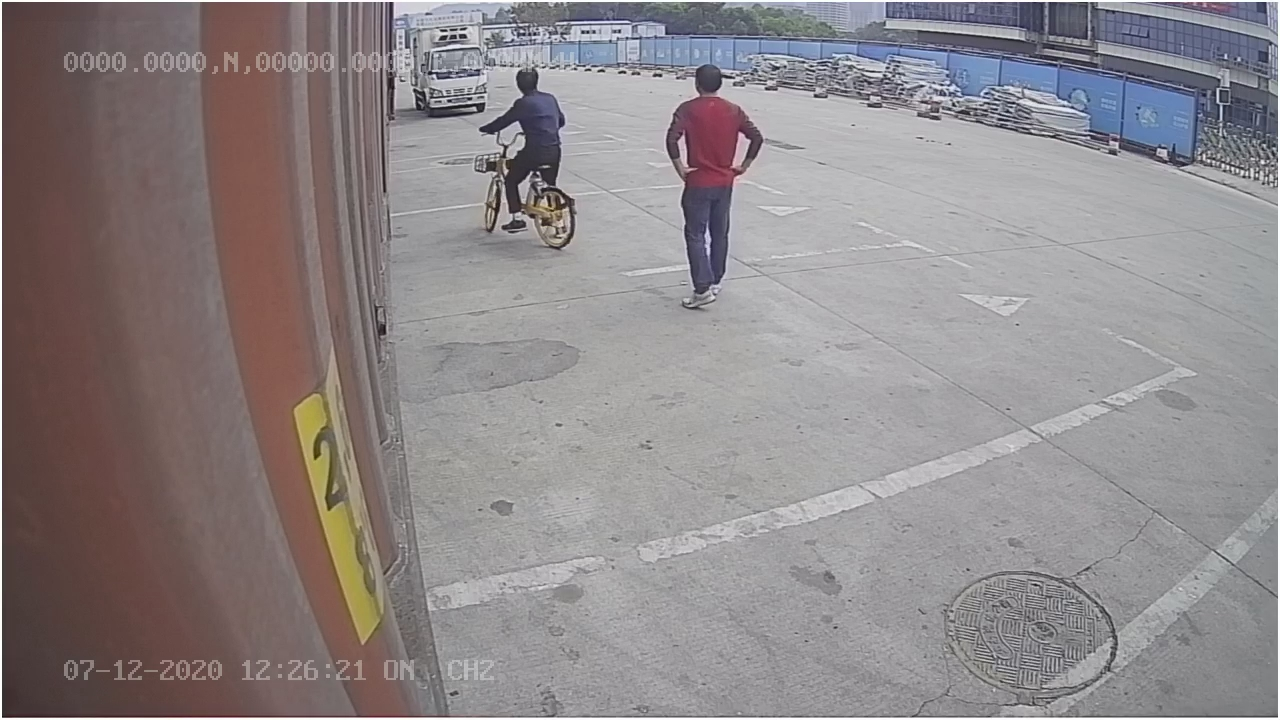person: (661, 60, 770, 310)
